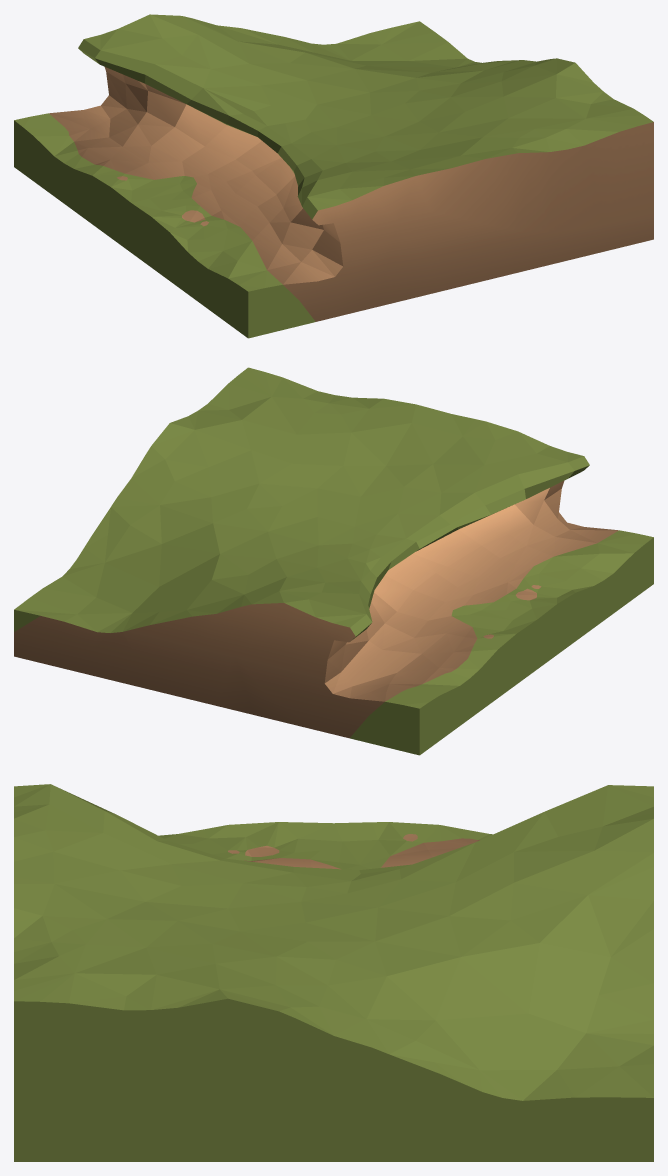
Rendered from Terrian_CliffGrass_Flat_Trans-01.fbx.
3 renders of one model, top to bottom at view 1: azimuth 30°, elevation 25°; view 2: azimuth 150°, elevation 25°; view 3: azimuth 270°, elevation 25°, orthographic. The views are drawn at different scales.
Visible parts, largest first — view 1: Terrian_CliffGrass_Flat_Trans-01; view 2: Terrian_CliffGrass_Flat_Trans-01; view 3: Terrian_CliffGrass_Flat_Trans-01.
Part boxes in pixels (<box>): Terrian_CliffGrass_Flat_Trans-01: <box>14,14,653,338</box>; Terrian_CliffGrass_Flat_Trans-01: <box>14,367,653,755</box>; Terrian_CliffGrass_Flat_Trans-01: <box>14,784,653,1161</box>.
Size of the model in its own units: 3600 by 1031 by 3600.
1 material, 1 textured.
